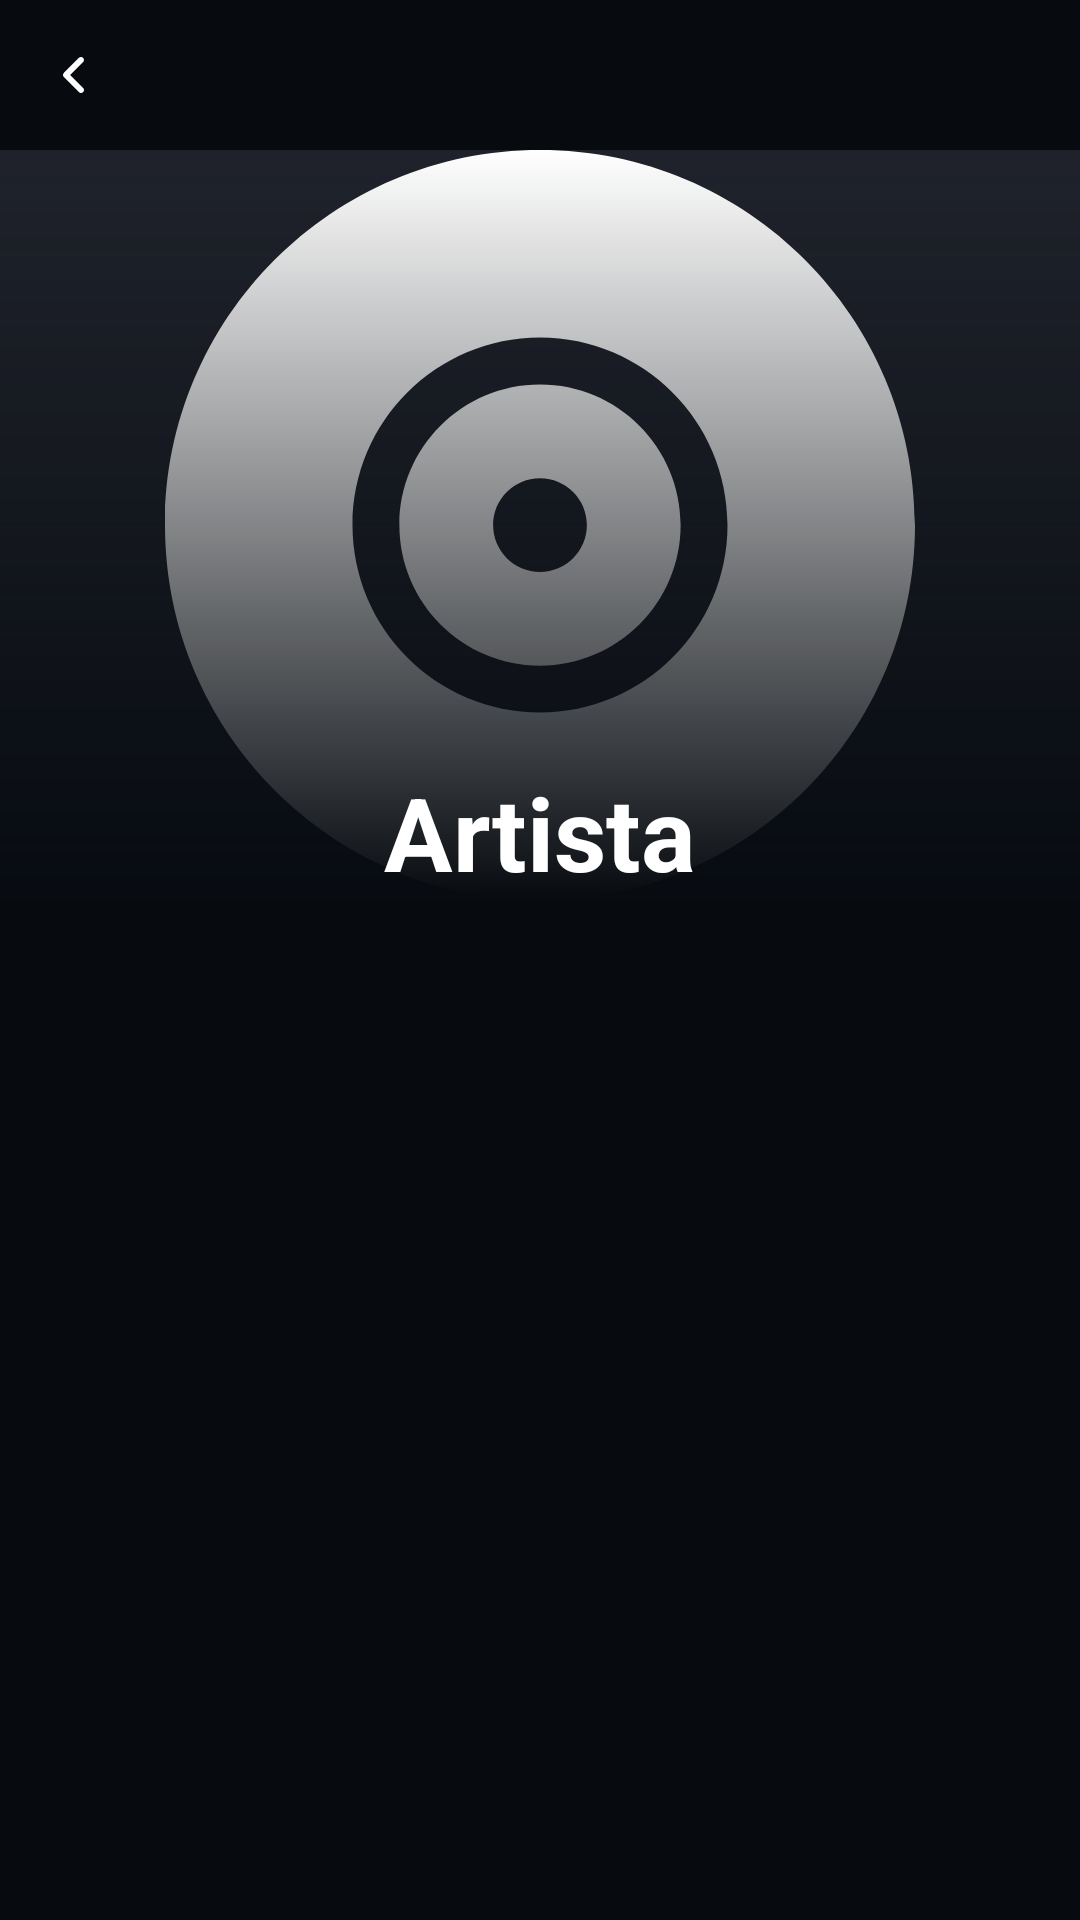

Screen size 1080px×1920px. Icon name, then its box in pixels as (x1, y1, x2, y2):
angle left: (63, 57, 84, 93)
